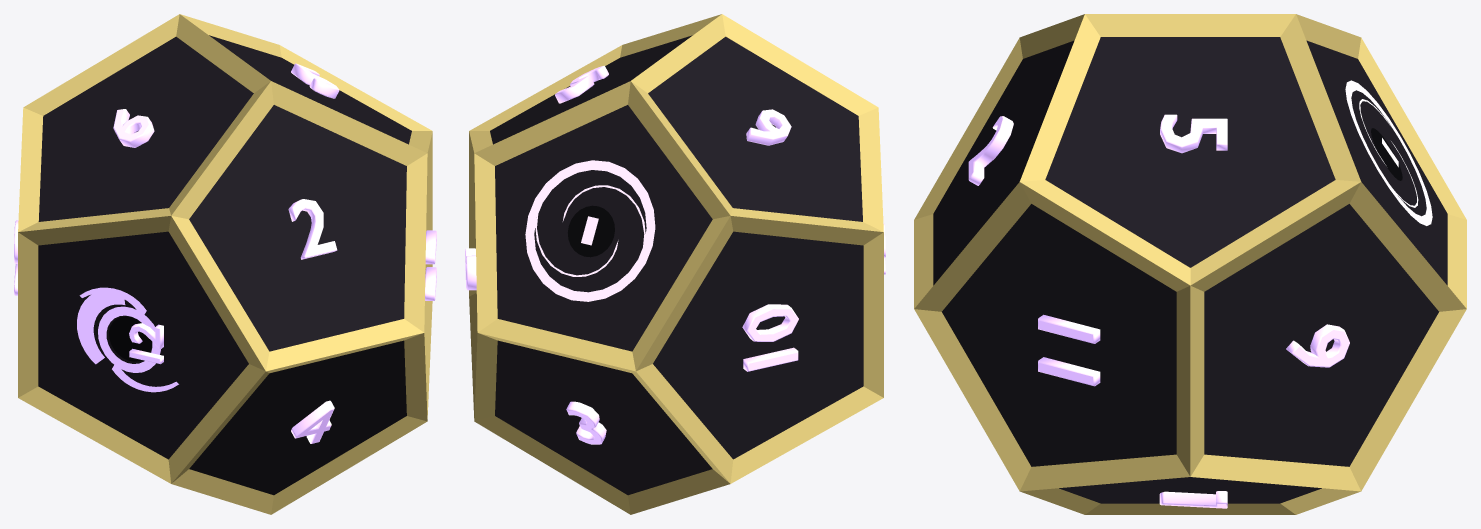
File: d12_black_hole_gold.glb
3 views of the same model, side by side, from view 1: azimuth 30°, elevation 25°; view 2: azimuth 150°, elevation 25°; view 3: azimuth 270°, elevation 25° (orthographic). The views are drawn at different scales.
Parts seen in each view (by area): view 1: D12_BlackHole_Gold; view 2: D12_BlackHole_Gold; view 3: D12_BlackHole_Gold.
Boxes of the visible parts, bbox=[...] form: D12_BlackHole_Gold: bbox=[14, 14, 436, 514]; D12_BlackHole_Gold: bbox=[465, 14, 885, 514]; D12_BlackHole_Gold: bbox=[914, 14, 1466, 514].
Bounding box in the file's own units: 4.48 × 4.48 × 4.48.
